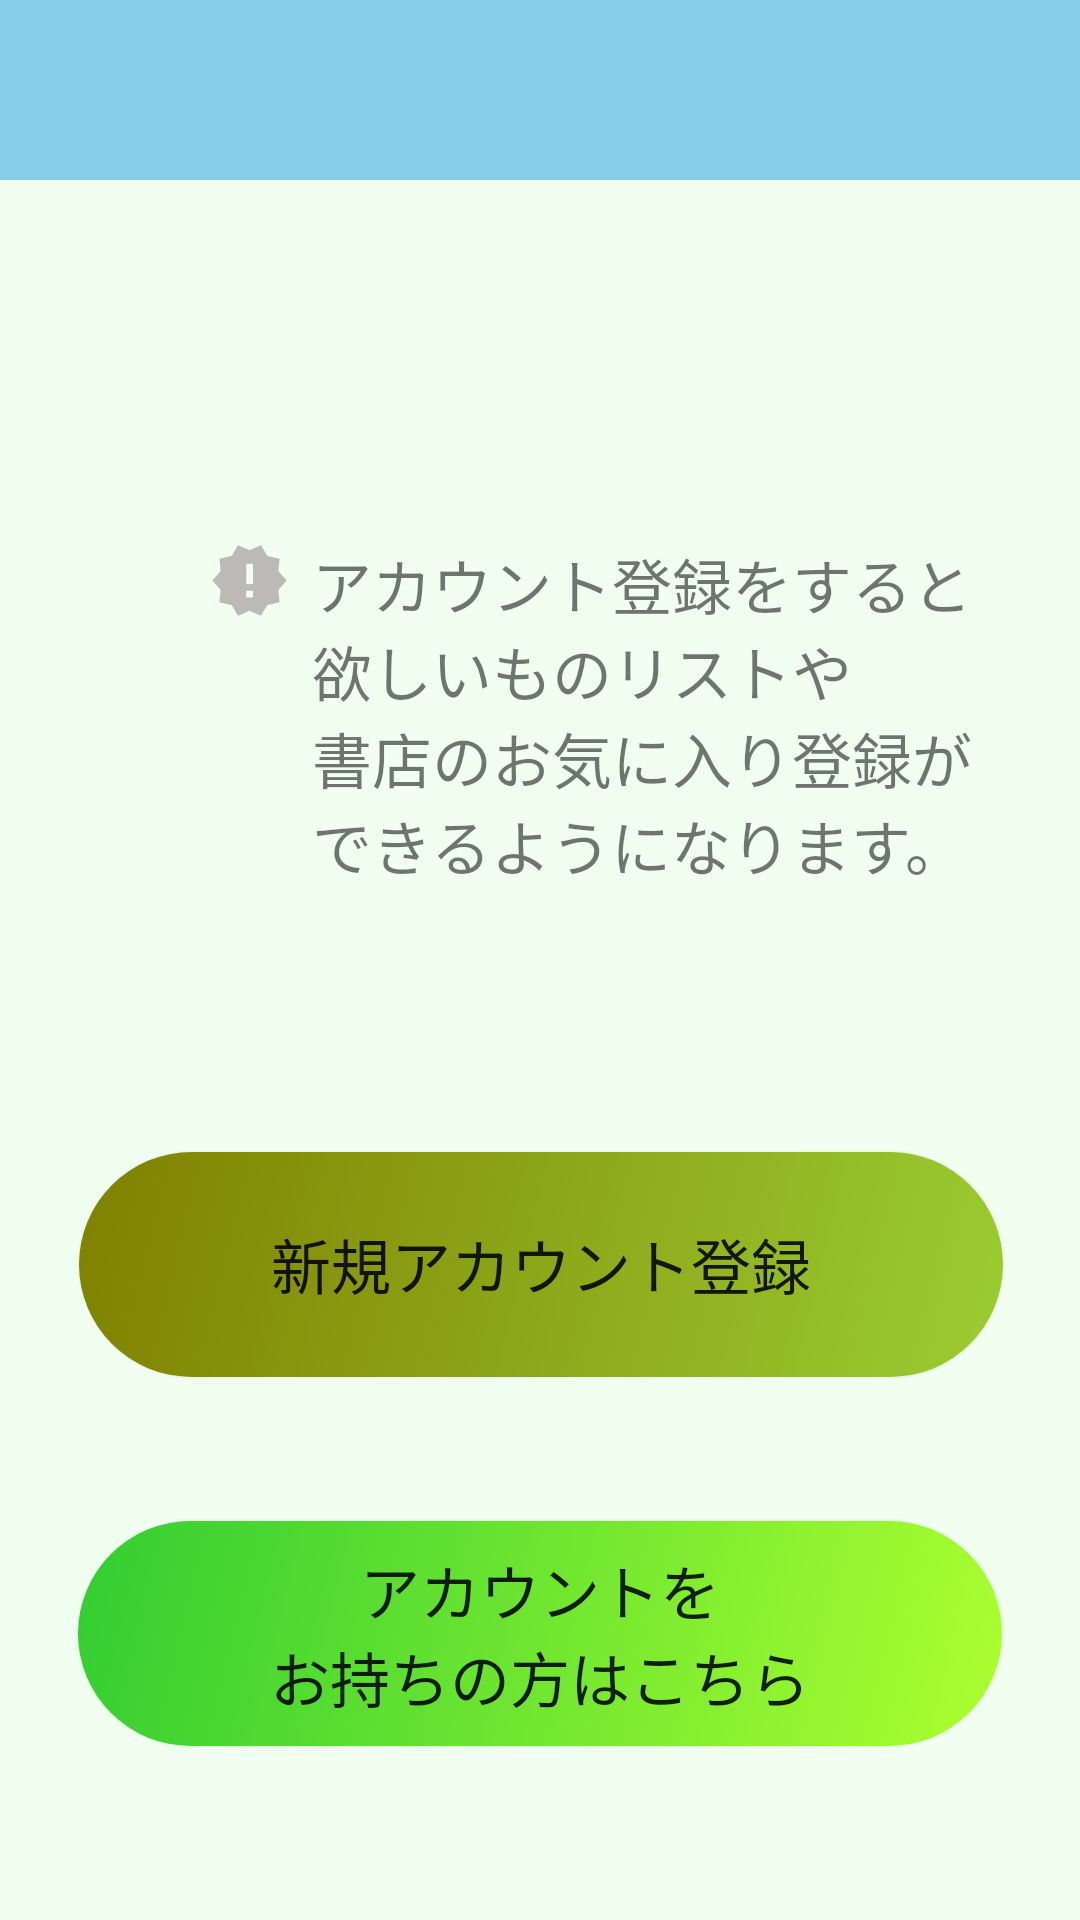

Where icons sit on this 1080 × 1920 app screen, as (x1, y1, x2, y2):
rogin tips: (212, 545, 287, 616)
